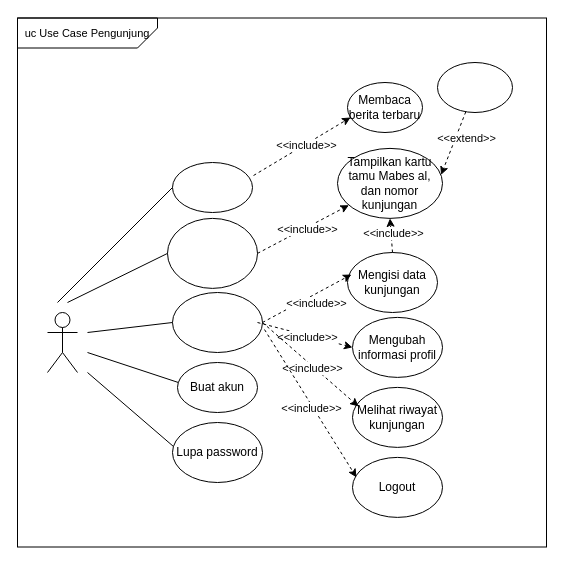
Image size: 564x564. Some labels were removed from this diagram. Each missing label, with the box of its shape:
Admin: (46, 312, 78, 372)
Halaman utama: (172, 162, 252, 212)
Keluar: (436, 62, 512, 112)
Langsung mengisi data kunjungan tanpa login: (166, 217, 258, 288)
Login: (172, 292, 262, 352)
